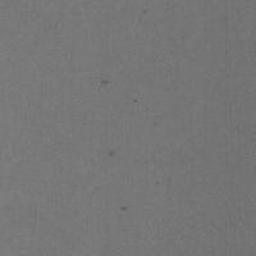Inclusion: (100, 79, 110, 86), (119, 205, 128, 212), (155, 180, 160, 189)
